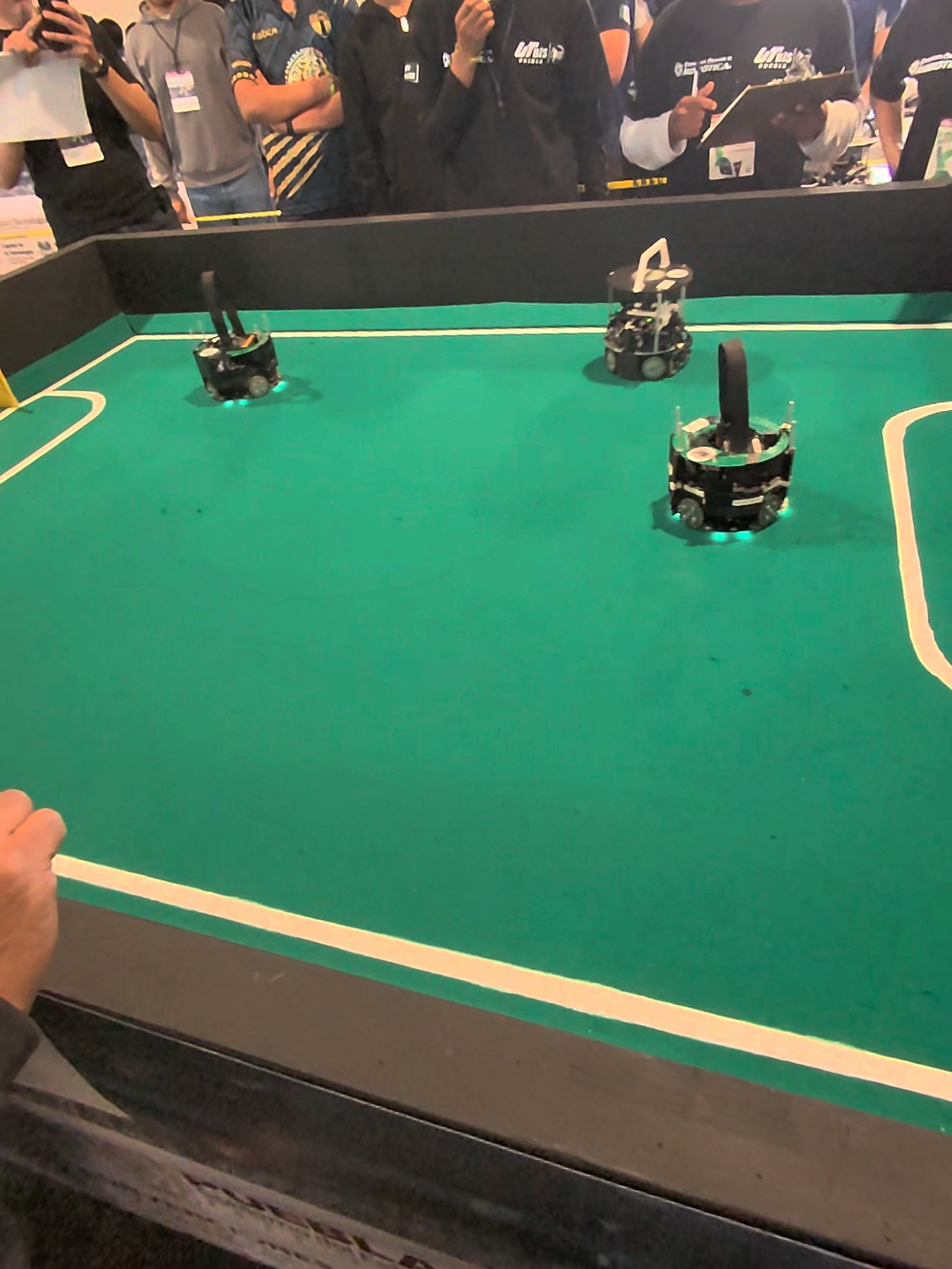Robot: (660, 329, 810, 559), (181, 276, 292, 426), (600, 234, 697, 387)
